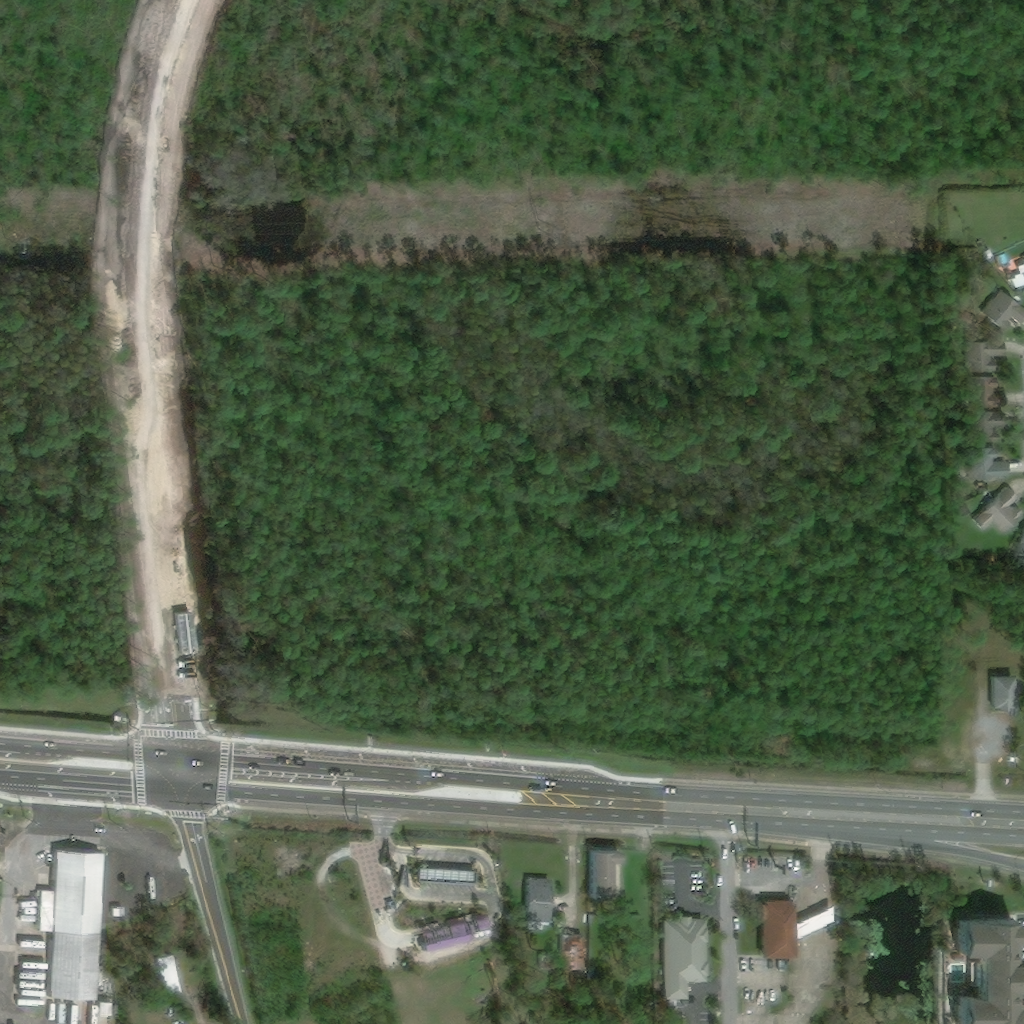minor_damage: (424, 912, 494, 952), (561, 933, 584, 970)
no_damage: (49, 850, 105, 1001), (957, 914, 1023, 1023), (762, 900, 834, 958), (664, 916, 708, 997), (973, 487, 1023, 535), (981, 286, 1023, 335), (965, 339, 1009, 373), (591, 850, 621, 898), (967, 447, 1009, 480), (524, 878, 551, 926), (157, 953, 182, 994), (978, 410, 1009, 443), (989, 676, 1015, 714), (418, 867, 475, 884), (974, 374, 999, 408), (39, 890, 55, 935), (1005, 257, 1023, 293), (990, 650, 1019, 672), (1008, 532, 1023, 552)
